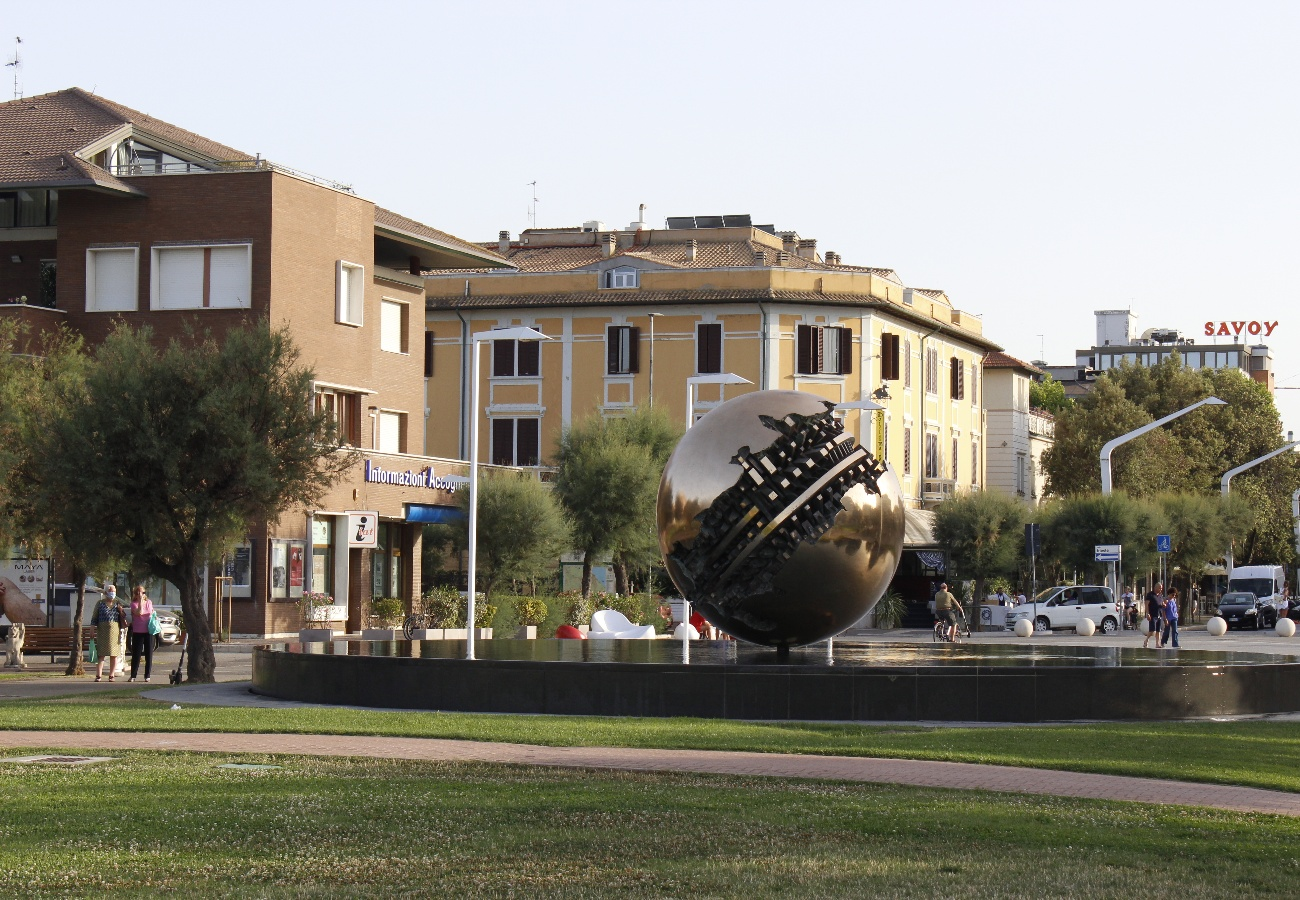Palla di Pomodoro: (657, 391, 907, 649)
